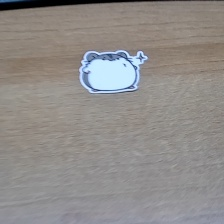mouse: (78, 47, 149, 95)
